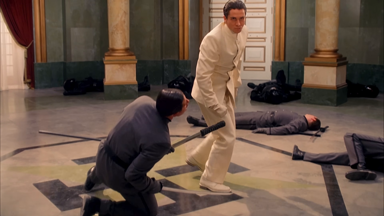bladed_weapon: (171, 117, 229, 153), (37, 127, 103, 141), (307, 123, 330, 141)
